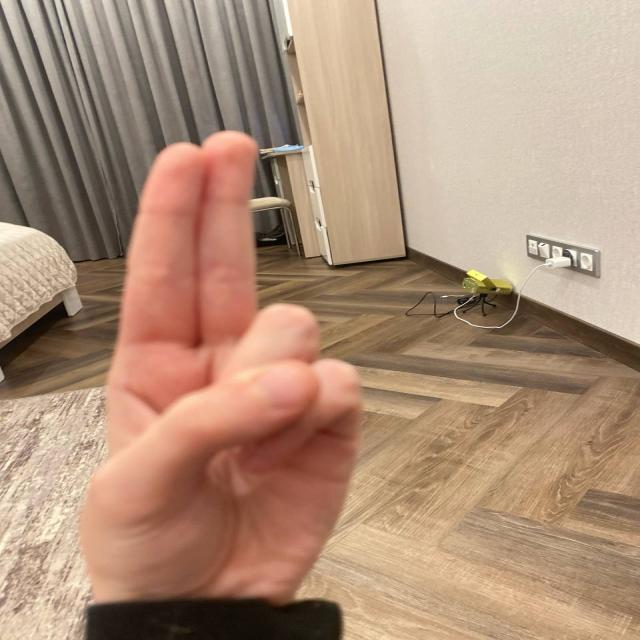ts: (91, 128, 391, 572)
